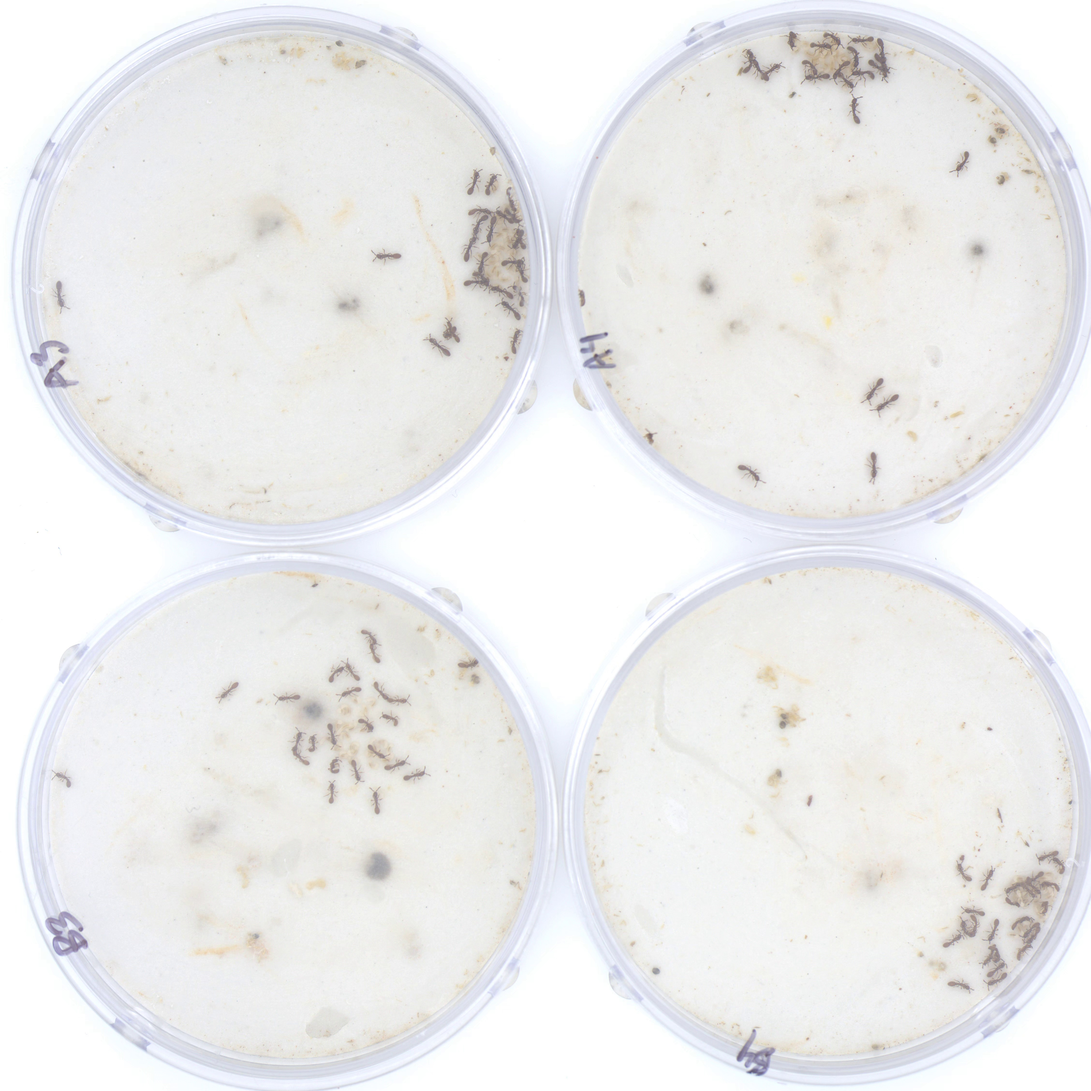brood: (474, 199, 526, 290), (787, 30, 856, 91), (1007, 869, 1058, 941), (320, 705, 370, 767), (365, 737, 394, 769), (846, 37, 879, 51), (484, 178, 499, 193), (337, 704, 351, 716), (366, 696, 377, 708), (350, 696, 362, 704)
